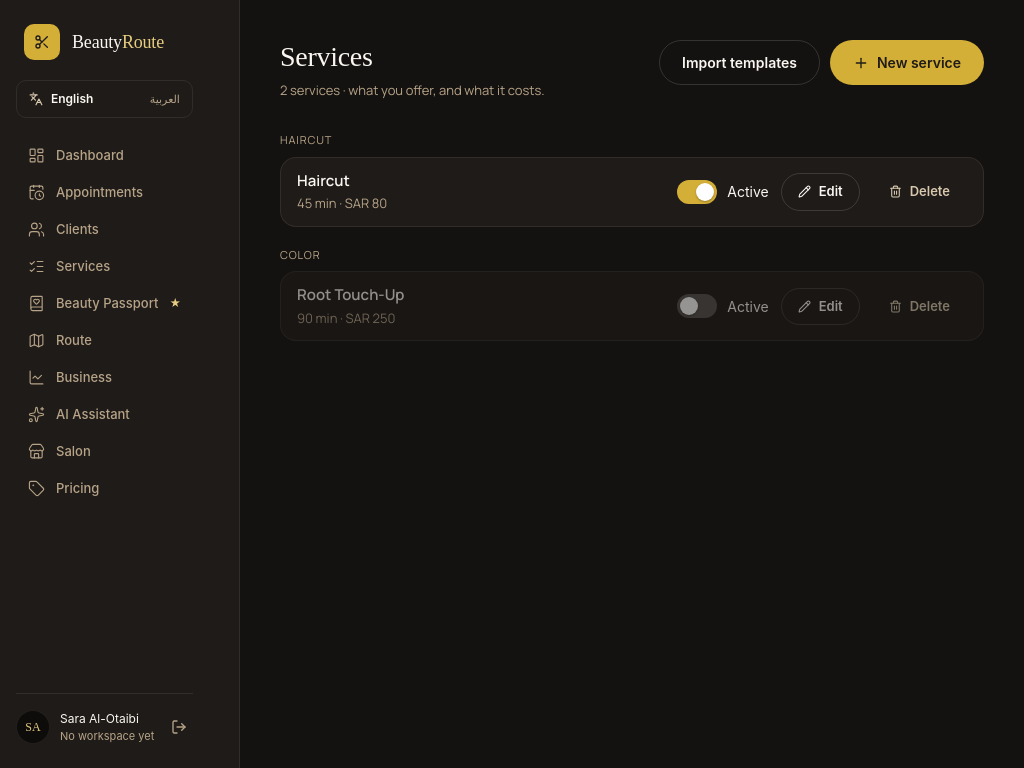
Test case: Services page › deletes a service successfully
Expected: the text "Haircut" is shown, [297,170,350,191]
Step 1. Click the button "Delete" in the row of "45 min · SAR 80" → (919, 192), box [872,173,967,211]
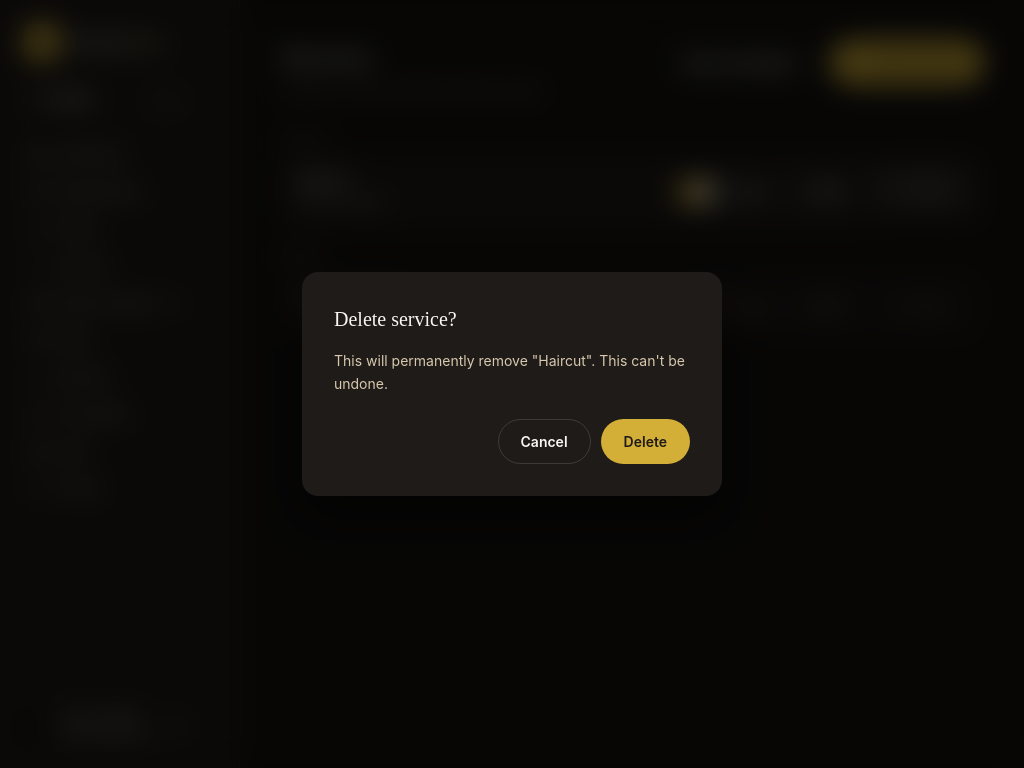
Step 2. Click the button "Delete" → (645, 441), box [601,419,690,464]
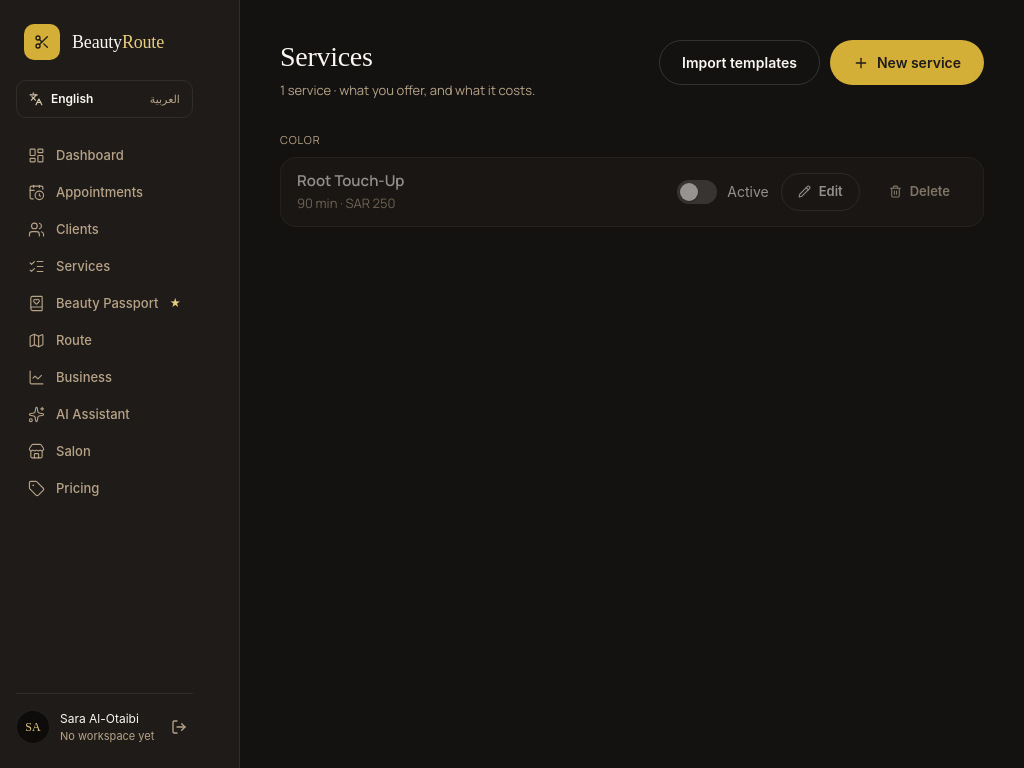
Expected: the text "haircut" is gone
